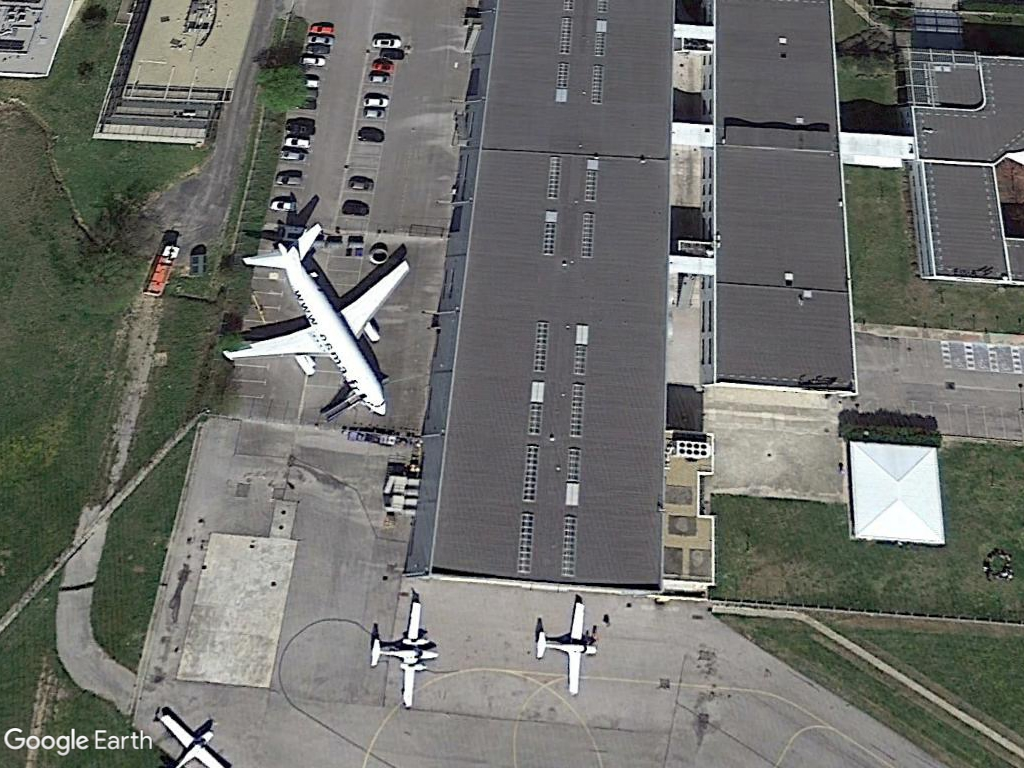airliner: (218, 220, 416, 423)
car: (281, 134, 315, 150), (274, 172, 305, 188), (360, 93, 392, 108)
trainer: (536, 592, 599, 701), (150, 705, 234, 768)
